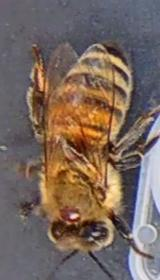varroa_mite: (51, 199, 88, 226)
